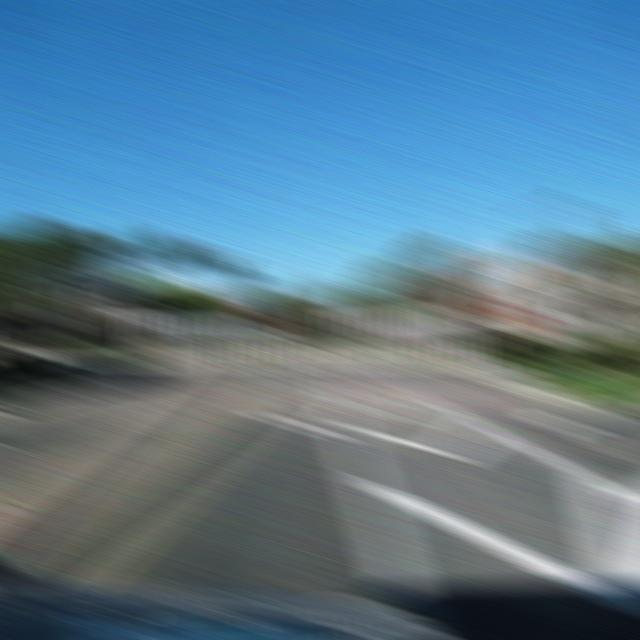stop: (502, 301, 541, 331), (245, 304, 281, 328)
